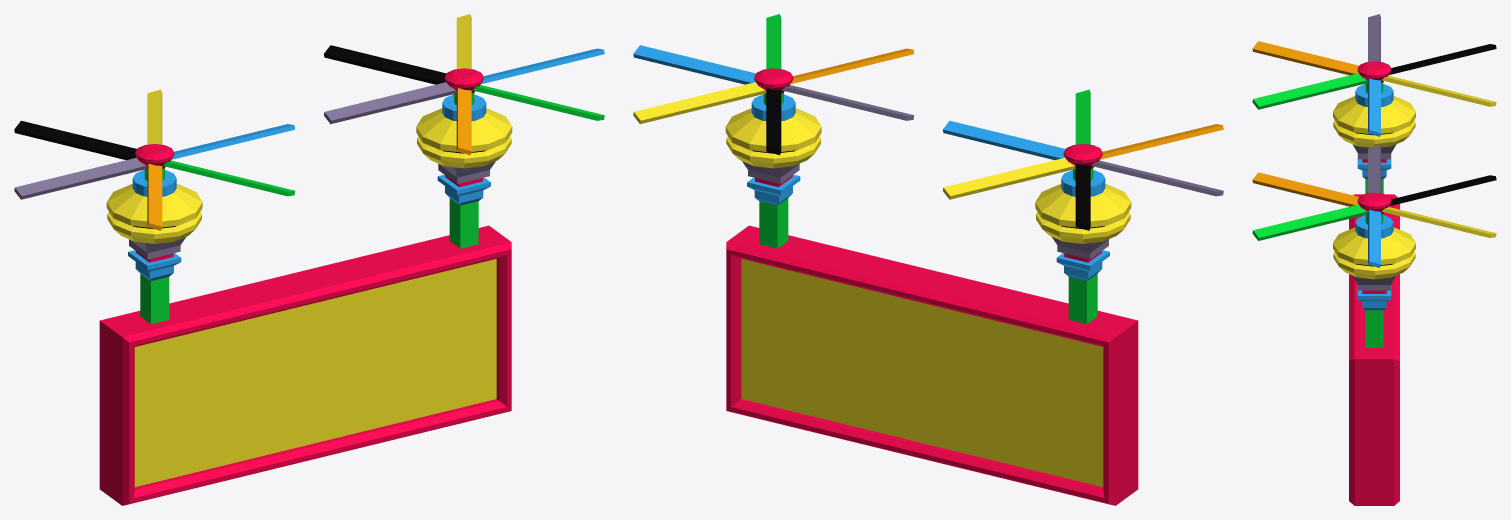
The model's file is sign.fbx.
3 views of the same model, side by side, from view 1: azimuth 30°, elevation 25°; view 2: azimuth 150°, elevation 25°; view 3: azimuth 270°, elevation 25° (orthographic). The views are drawn at different scales.
Visible parts, largest first — view 1: Cube.048, Cube.049, Cube.052, Cube.055, Cube.051, Cube.050; view 2: Cube.048, Cube.049, Cube.052, Cube.055, Cube.051, Cube.050; view 3: Cube.049, Cube.052, Cube.055, Cube.051, Cube.050.
Part boxes in pixels (bbox=[...]): Cube.048: bbox=[134, 259, 496, 486]; Cube.049: bbox=[99, 225, 511, 505]; Cube.052: bbox=[324, 14, 604, 154]; Cube.055: bbox=[14, 89, 294, 230]; Cube.051: bbox=[416, 93, 512, 248]; Cube.050: bbox=[106, 168, 202, 323]; Cube.048: bbox=[741, 259, 1103, 486]; Cube.049: bbox=[726, 225, 1138, 505]; Cube.052: bbox=[633, 14, 913, 155]; Cube.055: bbox=[942, 89, 1223, 230]; Cube.051: bbox=[725, 92, 821, 248]; Cube.050: bbox=[1035, 168, 1131, 323]; Cube.049: bbox=[1349, 194, 1399, 505]; Cube.052: bbox=[1252, 145, 1496, 267]; Cube.055: bbox=[1252, 14, 1496, 136]; Cube.051: bbox=[1333, 214, 1415, 347]; Cube.050: bbox=[1333, 82, 1415, 214].
Bounding box in the file's own units: 8629 × 4775 × 3602.
